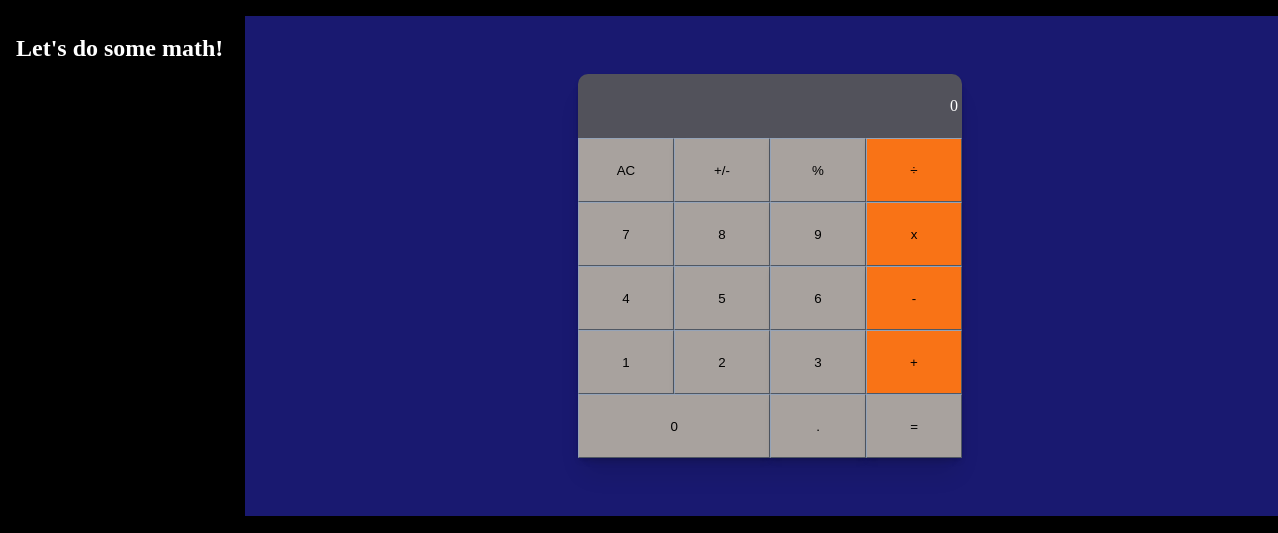
Test: Perform calculation operations › Click one  number to display on screen
This screenshot has width=1278, height=533.
Click the button "7": (626, 234) top-left (578, 202), bottom-right (674, 266)
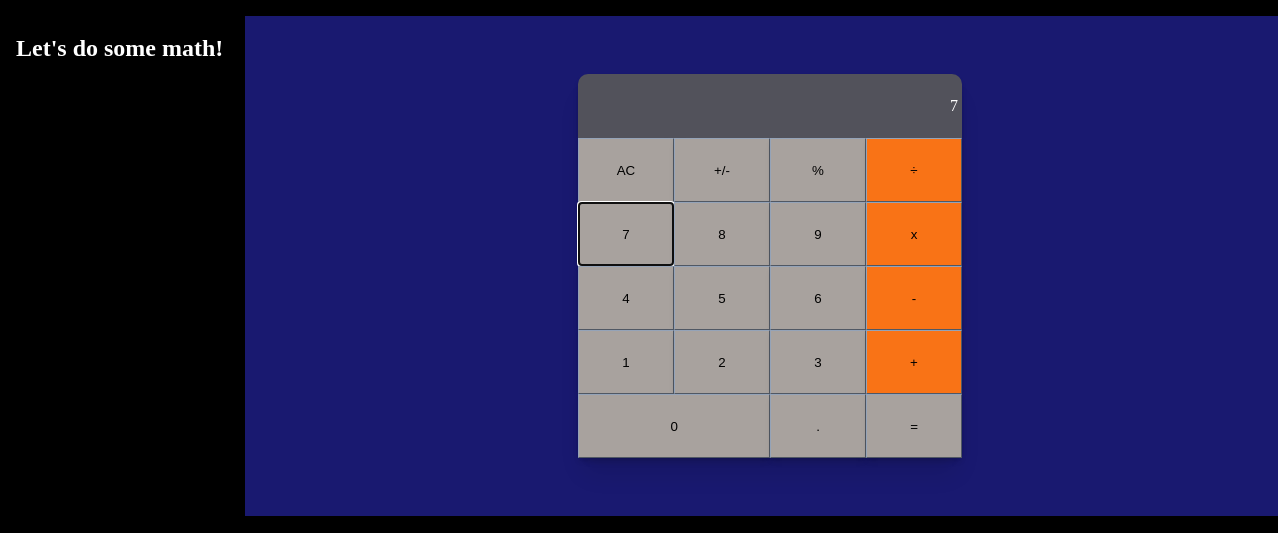
Result: the button with test id "cal-screen-out" reads "7" at top-left (950, 97), bottom-right (958, 114)
